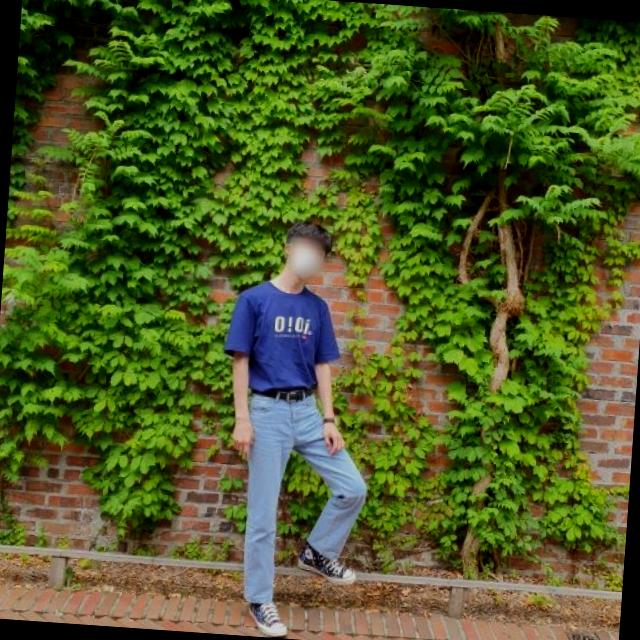denimpants: (242, 383, 378, 607)
shortsleeve: (222, 276, 350, 397)
